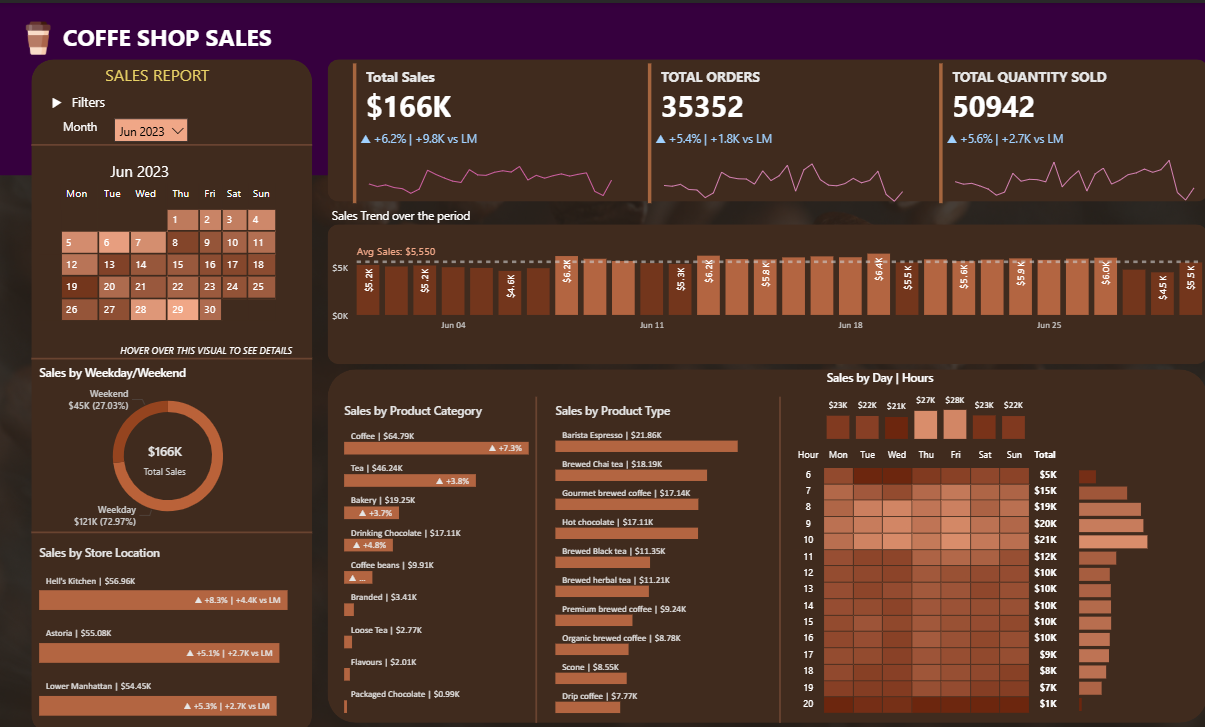

The page's visual inventory and layout, read from the dashboard file:
{"tool":"powerbi","page":{"name":"Page 1","canvas":[1400,850],"ordinal":0},"visuals":[{"type":"shape","box":[0,0,1400.3,199.6],"z":0},{"type":"shape","box":[36,64.5,325.7,785],"z":1000},{"type":"shape","box":[379.7,64.5,1020.6,165.1],"z":2000},{"type":"slicer","fields":{"Values":["Date Table.Month Year"]},"box":[127.5,128.9,95.6,36.2],"z":3000},{"type":"group","id":"g1","title":"Group 1","box":[404.1,65.2,320.1,172.4],"z":4000},{"type":"cardVisual","fields":{"Data":["Transactions.Total Sales"]},"box":[404.1,65.2,320.1,172.4],"z":4000,"group":"g1"},{"type":"cardVisual","fields":{"Data":["Transactions.TOTAL ORDERS"]},"box":[746,65.2,315.4,172.3],"z":4000,"group":"g2"},{"type":"cardVisual","fields":{"Data":["Transactions.TOTAL QUANTITY SOLD"]},"box":[1083.5,65.2,315.4,172.3],"z":4000,"group":"g3"},{"type":"group","id":"g2","title":"Group 1","box":[746,65.2,315.8,172.4],"z":5000},{"type":"lineChart","fields":{"Category":["Date Table.Date Hierarchy.Date"],"Y":["Transactions.TOTAL ORDERS"]},"box":[755,148.2,306.5,89.3],"z":5000,"group":"g2"},{"type":"lineChart","fields":{"Category":["Date Table.Date Hierarchy.Date"],"Y":["Transactions.TOTAL QUANTITY SOLD"]},"box":[1092.5,148.2,306.5,89.3],"z":5000,"group":"g3"},{"type":"lineChart","fields":{"Category":["Date Table.Date Hierarchy.Date"],"Y":["Transactions.Total Sales"]},"box":[413.2,148.3,311,89.3],"z":5000,"group":"g1"},{"type":"group","id":"g3","title":"Group 1","box":[1083.5,65.2,315.8,172.4],"z":6000},{"type":"group","id":"g4","title":"Group 2","box":[40.6,176.7,310,244.8],"z":7000},{"type":"pivotTable","fields":{"Rows":["Date Table.Week number"],"Columns":["Date Table.Day Name"],"Values":["Min(Date Table.Day Number)"]},"box":[40.6,204.2,299.8,201.3],"z":7000,"group":"g4"},{"type":"card","fields":{"Values":["Min(Date Table.Month Year)"]},"box":[89.9,176.7,144.9,40.6],"z":8000,"group":"g4"},{"type":"shape","box":[36.2,399.8,325.9,24.6],"z":8000},{"type":"shape","box":[36.2,152.1,325.9,24.6],"z":9000},{"type":"card","fields":{"Values":["Transactions.FOOT NOTE"]},"box":[127.5,389.6,223.1,31.9],"z":9000,"group":"g4"},{"type":"donutChart","title":"Sales by Weekday/Weekend","fields":{"Category":["Date Table.Weekday/Weekend"],"Y":["Transactions.Total Sales"]},"box":[40.6,418.6,308.5,195.6],"z":10000},{"type":"card","fields":{"Values":["Transactions.Total Sales"]},"box":[147.8,504.1,86.9,49.3],"z":11000},{"type":"shape","box":[36.2,601.1,325.9,24.6],"z":12000},{"type":"clusteredBarChart","title":"Sales by Store Location","fields":{"Category":["Transactions.store_location"],"Y":["Transactions.Placeholder","Transactions.Total Sales"]},"box":[40.6,627.2,321.6,207.1],"z":13000},{"type":"shape","box":[379.5,256.4,1019.8,162.2],"z":14000},{"type":"columnChart","title":"Sales Trend over the period","fields":{"Category":["Transactions.transaction_date"],"Y":["Transactions.Total Sales"]},"box":[379.5,237.6,1019.8,152.1],"z":15000},{"type":"shape","box":[379.5,424.4,1019.8,409.9],"z":16000},{"type":"clusteredBarChart","title":"Sales by Product Category","fields":{"Y":["Transactions.Placeholder","Transactions.Total Sales"],"Category":["Transactions.product_category"]},"box":[394,463.5,250.6,365],"z":17000},{"type":"shape","box":[598.2,456.3,46.4,378.1],"z":18000},{"type":"clusteredBarChart","title":"Sales by Product Type","fields":{"Y":["Transactions.Placeholder","Transactions.Total Sales"],"Category":["Transactions.product_type"]},"box":[638.8,463.5,250.6,365],"z":19000},{"type":"shape","box":[880.7,456.3,46.4,378.1],"z":20000},{"type":"pivotTable","fields":{"Rows":["Transactions.Hour"],"Columns":["Date Table.Day Name"],"Values":["Transactions.Total Sales"]},"box":[914,511.3,339,323],"z":21000},{"type":"barChart","fields":{"Category":["Transactions.Hour"],"Y":["Transactions.Total Sales"]},"box":[1245.7,528.7,121.7,297],"z":22000},{"type":"columnChart","title":"Sales by Day | Hours","fields":{"Category":["Date Table.Day Name"],"Y":["Transactions.Total Sales"]},"box":[953.1,424.4,240.5,86.9],"z":23000},{"type":"textbox","box":[68.1,128.9,59.4,36.2],"z":24000},{"type":"textbox","box":[55,99.9,107.2,47.8],"z":25000},{"type":"textbox","box":[68.1,15.9,344.8,49.3],"z":26000},{"type":"textbox","box":[68.1,65.2,223.1,34.8],"z":27000},{"type":"image","box":[20.3,15.9,47.8,49.3],"z":28000}]}

Visuals, with their boxes in screenshot pixels (x1, y1, x2, y2), scaled from the page's 1400x850 canvas onto the 1205x727 screenshot:
shape: pyautogui.locateOnScreen(0, 0, 1204, 171)
shape: pyautogui.locateOnScreen(31, 55, 311, 726)
shape: pyautogui.locateOnScreen(327, 55, 1204, 196)
slicer - Date Table.Month Year: pyautogui.locateOnScreen(110, 110, 192, 141)
"Group 1" group: pyautogui.locateOnScreen(348, 56, 623, 203)
cardVisual - Transactions.Total Sales: pyautogui.locateOnScreen(348, 56, 623, 203)
cardVisual - Transactions.TOTAL ORDERS: pyautogui.locateOnScreen(642, 56, 914, 203)
cardVisual - Transactions.TOTAL QUANTITY SOLD: pyautogui.locateOnScreen(933, 56, 1204, 203)
"Group 1" group: pyautogui.locateOnScreen(642, 56, 914, 203)
lineChart - Date Table.Date Hierarchy.Date x Transactions.TOTAL ORDERS: pyautogui.locateOnScreen(650, 127, 914, 203)
lineChart - Date Table.Date Hierarchy.Date x Transactions.TOTAL QUANTITY SOLD: pyautogui.locateOnScreen(940, 127, 1204, 203)
lineChart - Date Table.Date Hierarchy.Date x Transactions.Total Sales: pyautogui.locateOnScreen(356, 127, 623, 203)
"Group 1" group: pyautogui.locateOnScreen(933, 56, 1204, 203)
"Group 2" group: pyautogui.locateOnScreen(35, 151, 302, 361)
pivotTable - Date Table.Week number x Date Table.Day Name: pyautogui.locateOnScreen(35, 175, 293, 347)
card - Min(Date Table.Month Year): pyautogui.locateOnScreen(77, 151, 202, 186)
shape: pyautogui.locateOnScreen(31, 342, 312, 363)
shape: pyautogui.locateOnScreen(31, 130, 312, 151)
card - Transactions.FOOT NOTE: pyautogui.locateOnScreen(110, 333, 302, 361)
"Sales by Weekday/Weekend" donutChart: pyautogui.locateOnScreen(35, 358, 300, 525)
card - Transactions.Total Sales: pyautogui.locateOnScreen(127, 431, 202, 473)
shape: pyautogui.locateOnScreen(31, 514, 312, 535)
"Sales by Store Location" clusteredBarChart: pyautogui.locateOnScreen(35, 536, 312, 714)
shape: pyautogui.locateOnScreen(327, 219, 1204, 358)
"Sales Trend over the period" columnChart: pyautogui.locateOnScreen(327, 203, 1204, 333)
shape: pyautogui.locateOnScreen(327, 363, 1204, 714)
"Sales by Product Category" clusteredBarChart: pyautogui.locateOnScreen(339, 396, 555, 709)
shape: pyautogui.locateOnScreen(515, 390, 555, 714)
"Sales by Product Type" clusteredBarChart: pyautogui.locateOnScreen(550, 396, 766, 709)
shape: pyautogui.locateOnScreen(758, 390, 798, 714)
pivotTable - Transactions.Hour x Date Table.Day Name: pyautogui.locateOnScreen(787, 437, 1078, 714)
barChart - Transactions.Hour x Transactions.Total Sales: pyautogui.locateOnScreen(1072, 452, 1177, 706)
"Sales by Day | Hours" columnChart: pyautogui.locateOnScreen(820, 363, 1027, 437)
textbox: pyautogui.locateOnScreen(59, 110, 110, 141)
textbox: pyautogui.locateOnScreen(47, 85, 140, 126)
textbox: pyautogui.locateOnScreen(59, 14, 355, 56)
textbox: pyautogui.locateOnScreen(59, 56, 251, 86)
image: pyautogui.locateOnScreen(17, 14, 59, 56)
